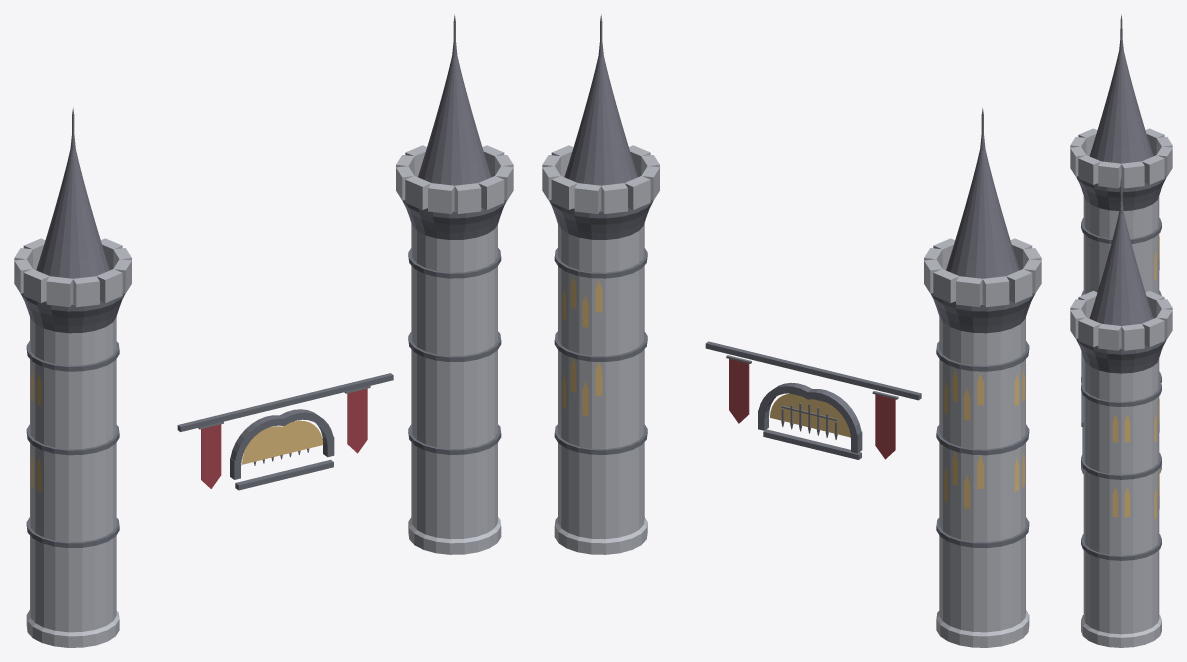
File: ExtGate.fbx
3 views of the same model, side by side, from view 1: azimuth 30°, elevation 25°; view 2: azimuth 150°, elevation 25°; view 3: azimuth 270°, elevation 25° (orthographic). The views are drawn at different scales.
Visible parts, largest first — view 1: ExtGate; view 2: ExtGate; view 3: ExtGate.
Boxes of the visible parts, box(x1,y1,x2,y2) form: ExtGate: box(14, 14, 513, 647); ExtGate: box(542, 14, 1041, 647); ExtGate: box(1070, 14, 1172, 647).
Size of the model in its own units: 21.79 by 22.45 by 4.59.
